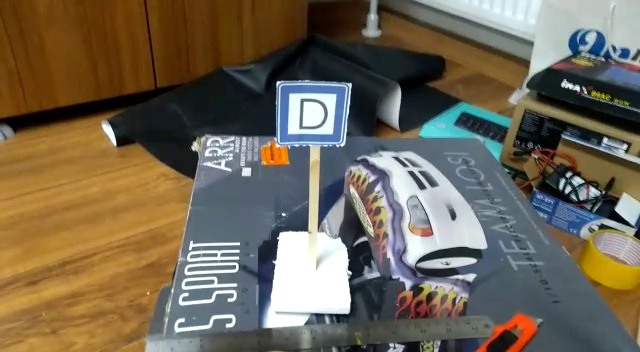durak: (281, 85, 343, 140)
